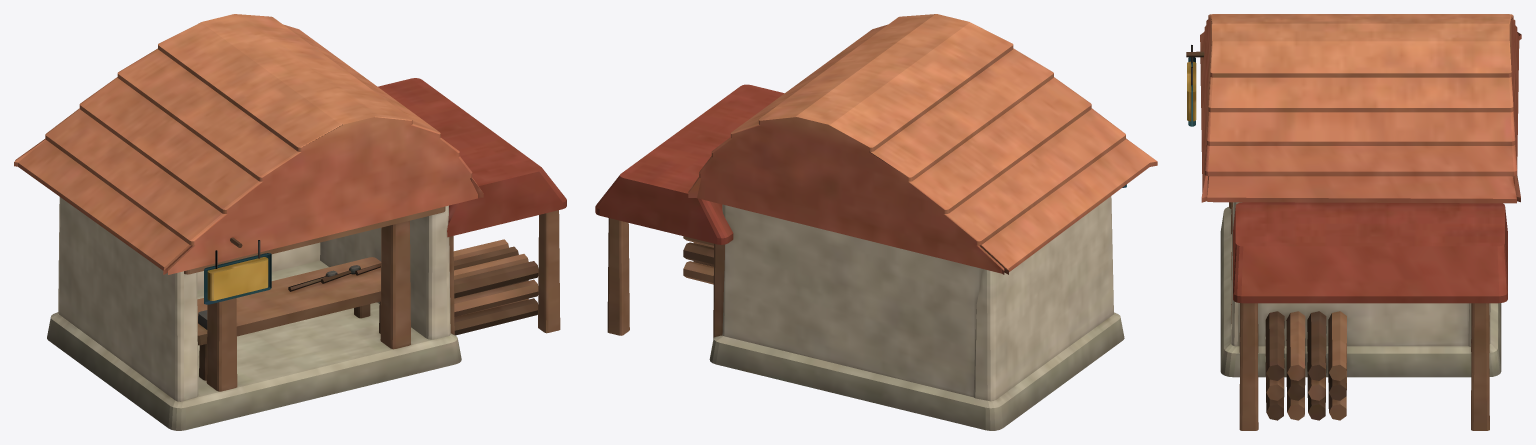
The model's file is workshop.glb.
3 views of the same model, side by side, from view 1: azimuth 30°, elevation 25°; view 2: azimuth 150°, elevation 25°; view 3: azimuth 270°, elevation 25° (orthographic). The views are drawn at different scales.
Visible parts, largest first — view 1: Workshop; view 2: Workshop; view 3: Workshop.
Boxes of the visible parts, x1=… form: Workshop: x1=14, y1=14, x2=566, y2=430; Workshop: x1=595, y1=14, x2=1157, y2=430; Workshop: x1=1186, y1=14, x2=1521, y2=430.
Bounding box in the file's own units: 5.43 × 3.34 × 3.53.
1 material, 1 textured.
